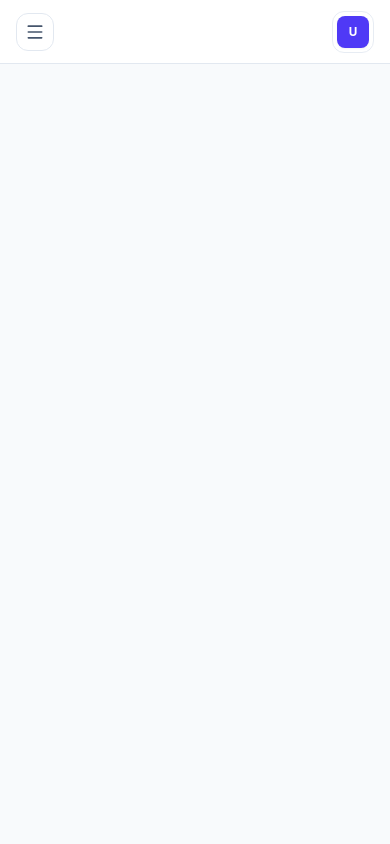
Scenario: Mobile Responsive Layout & Navigation › AppLayout coordinates mobile sidebar toggling with Header and Sidebar
The width and height of the screenshot is (390, 844).
Later steps or results of the test are not shown.
// Click mobile hamburger menu button in Header
Step 1. Click the button named "toggle navigation drawer" → [35, 32], box [16, 12, 54, 50]
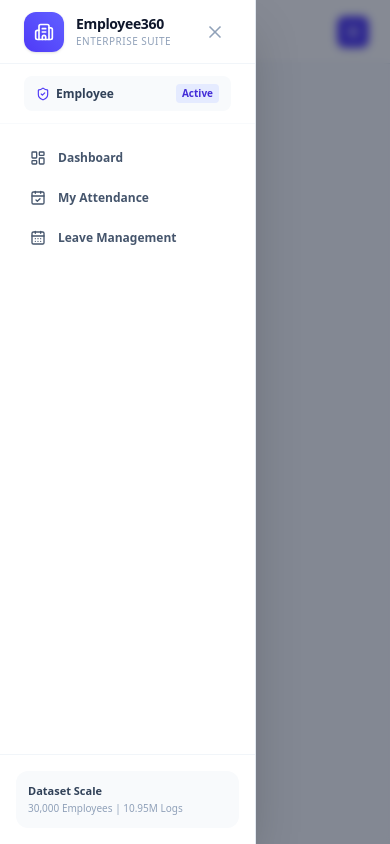
Expected: the element that starts with "Employee360" has class "translate-x-0"
